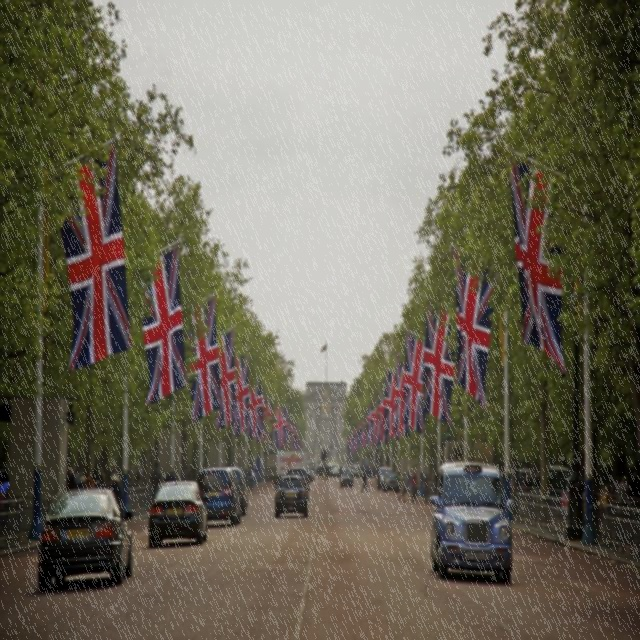pessoa: (445, 476, 500, 508), (64, 462, 105, 489), (108, 462, 146, 482), (558, 469, 568, 518), (110, 474, 124, 504), (0, 462, 11, 500), (359, 462, 382, 480), (522, 471, 533, 502), (628, 471, 640, 499), (617, 475, 630, 500), (592, 482, 610, 500), (397, 470, 407, 502), (321, 386, 332, 414), (410, 470, 419, 500), (422, 470, 430, 502), (542, 467, 550, 497), (316, 445, 328, 465), (360, 468, 369, 494), (316, 463, 330, 479), (532, 471, 542, 492), (164, 468, 178, 482), (246, 467, 254, 491), (610, 477, 618, 501), (340, 463, 350, 479), (76, 475, 86, 488), (515, 468, 522, 486), (250, 468, 256, 488), (395, 470, 402, 484), (86, 476, 94, 488), (311, 461, 315, 472)
